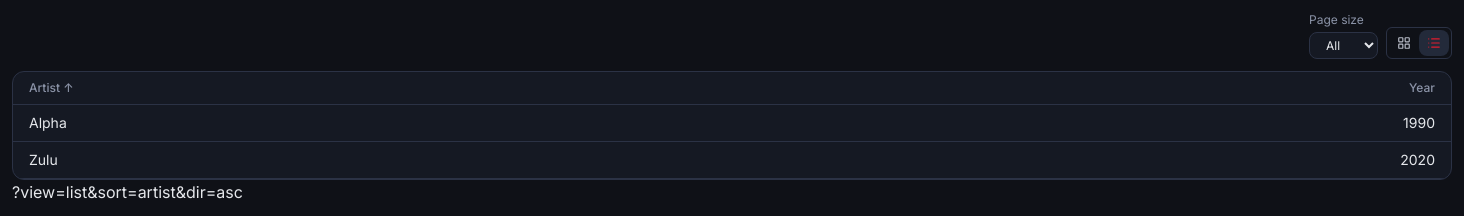
DataView › switches to grid without losing shareable URL state
Click the button named "Grid view".
click(1404, 43)  # box [1389,30,1419,56]
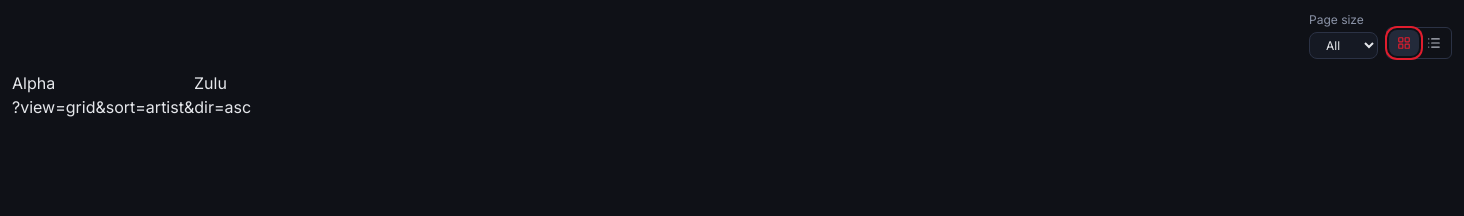
Result: the text named "location" shows "view=grid" at [12,97,251,117]
